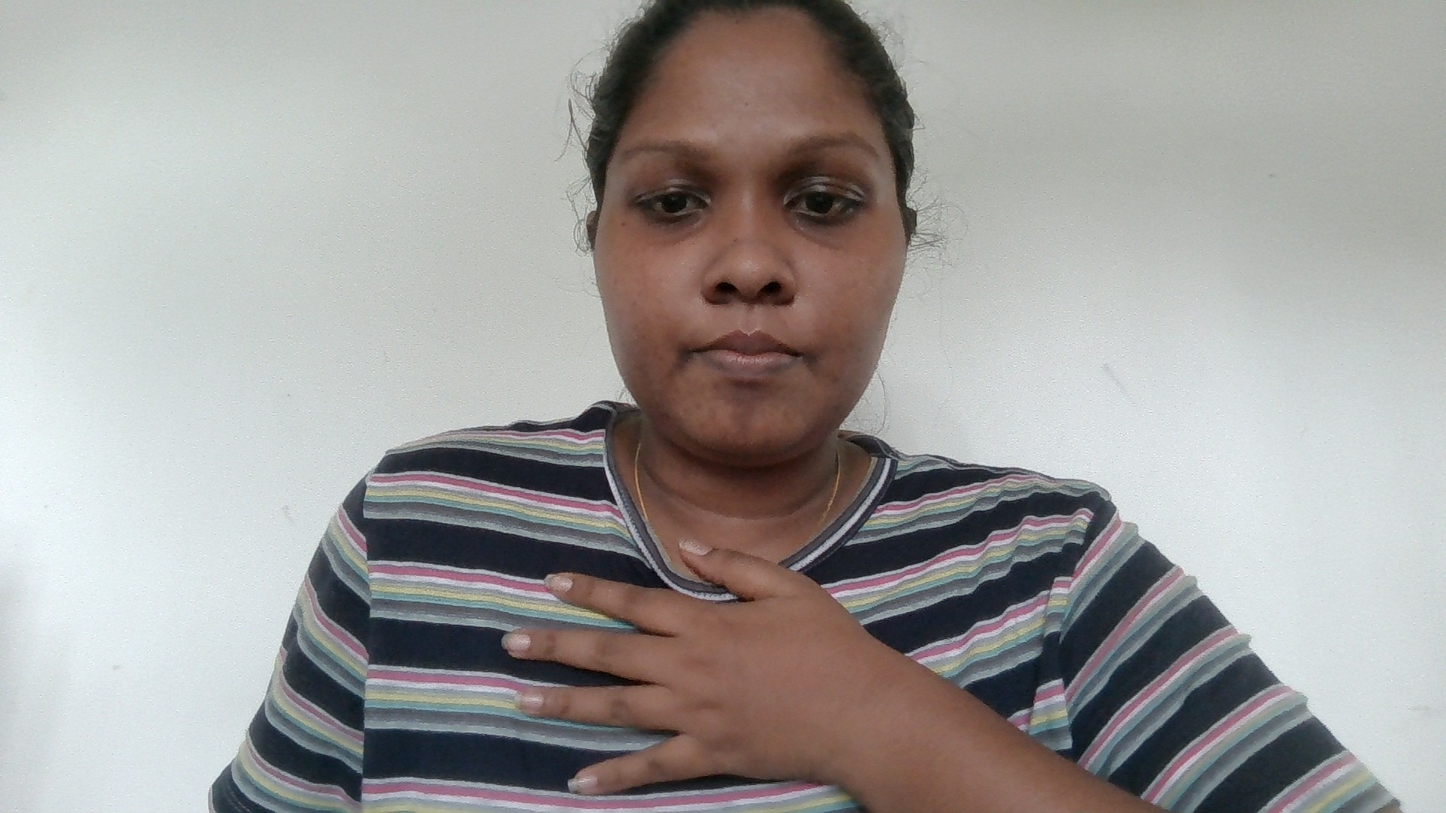Please: (442, 537, 954, 782)
